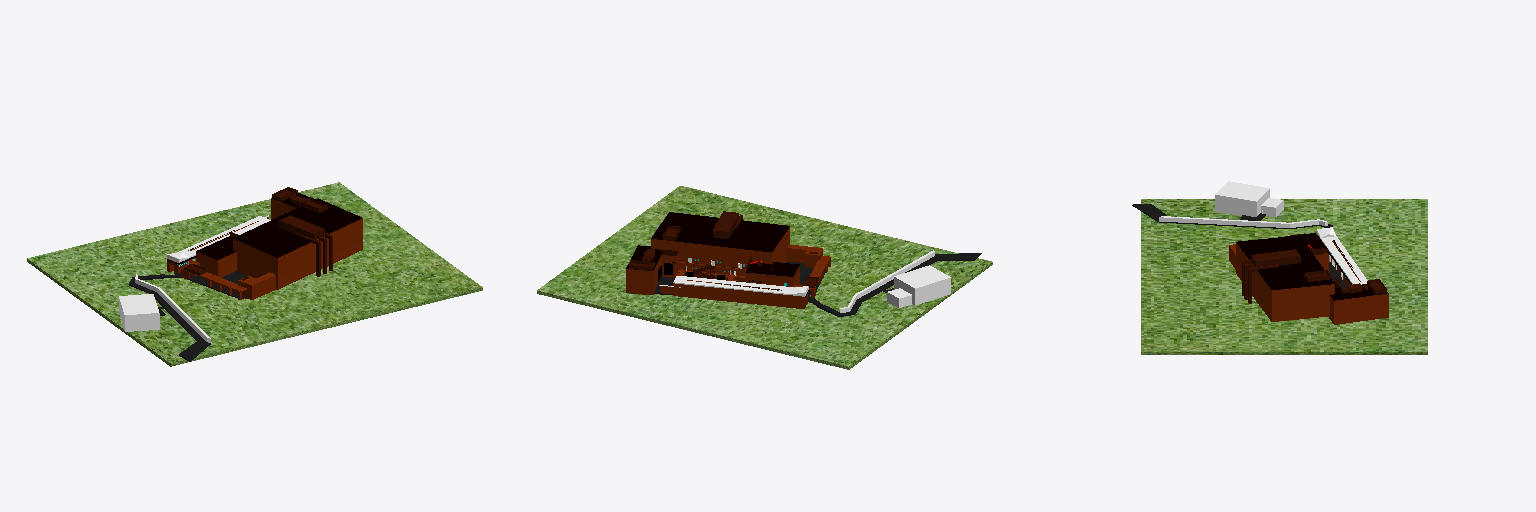
3 views of the same model, side by side, from view 1: azimuth 30°, elevation 25°; view 2: azimuth 150°, elevation 25°; view 3: azimuth 270°, elevation 25° (orthographic).
Visible parts, largest first — view 1: polySurface679; view 2: polySurface679; view 3: polySurface679.
Part boxes in pixels (x1,y1,x2,y2): polySurface679: (27, 182, 482, 366); polySurface679: (537, 186, 992, 369); polySurface679: (1132, 181, 1427, 354).
Size of the model in its own units: 22.1 by 2.96 by 18.01.
Materials: 58 (1 with a texture image).